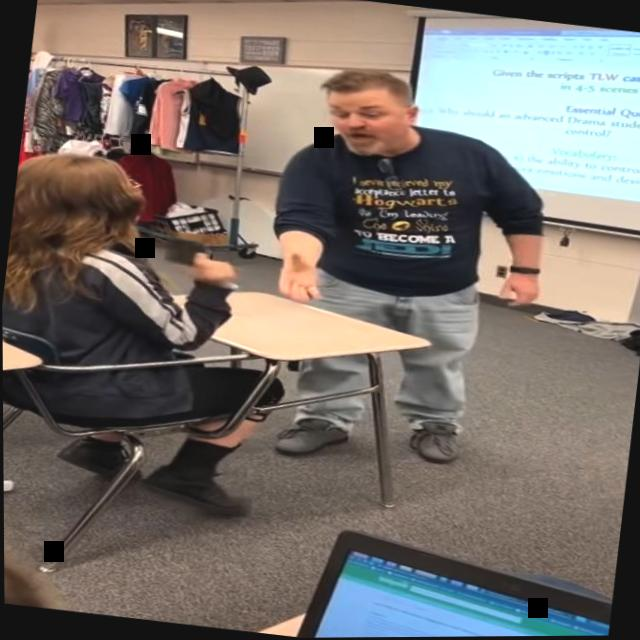NO-Mask: (319, 70, 415, 162)
